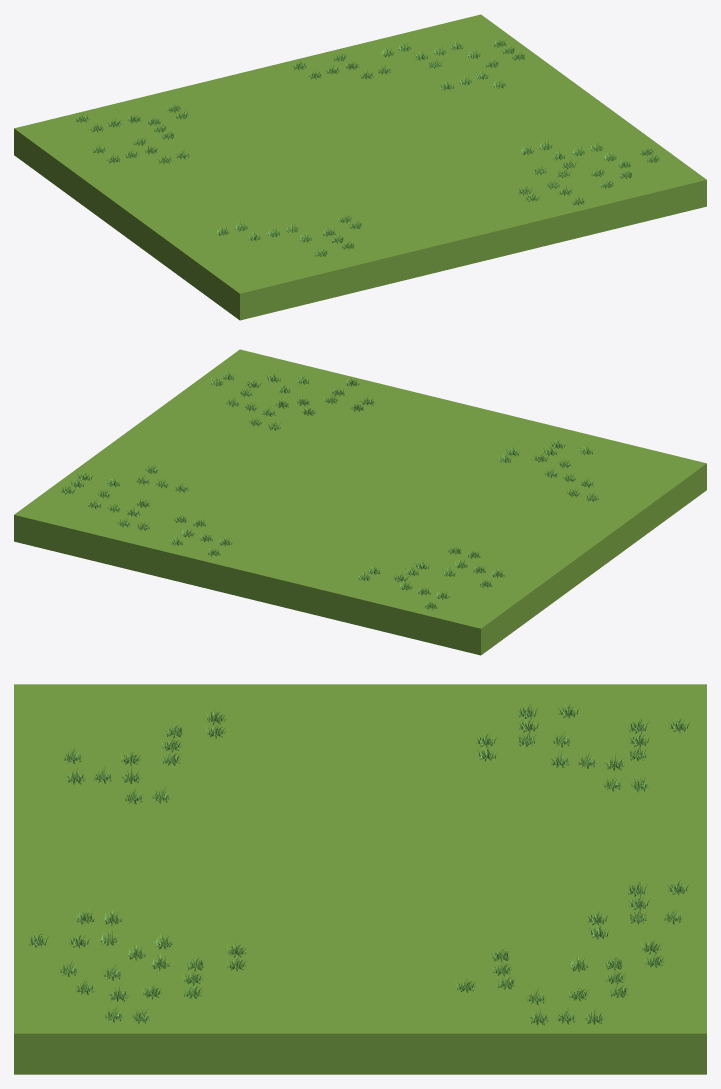
The model's file is FLOOR.fbx.
The picture shows the model from 3 angles, top to bottom: view 1: azimuth 30°, elevation 25°; view 2: azimuth 150°, elevation 25°; view 3: azimuth 270°, elevation 25°; orthographic projection. The views are drawn at different scales.
Visible parts, largest first — view 1: Cube.016; view 2: Cube.016; view 3: Cube.016.
Boxes of the visible parts, <box> form: Cube.016: <box>14,14,706,320</box>; Cube.016: <box>14,349,706,655</box>; Cube.016: <box>14,684,706,1074</box>.
Size of the model in its own units: 21120 by 1512 by 17695.
